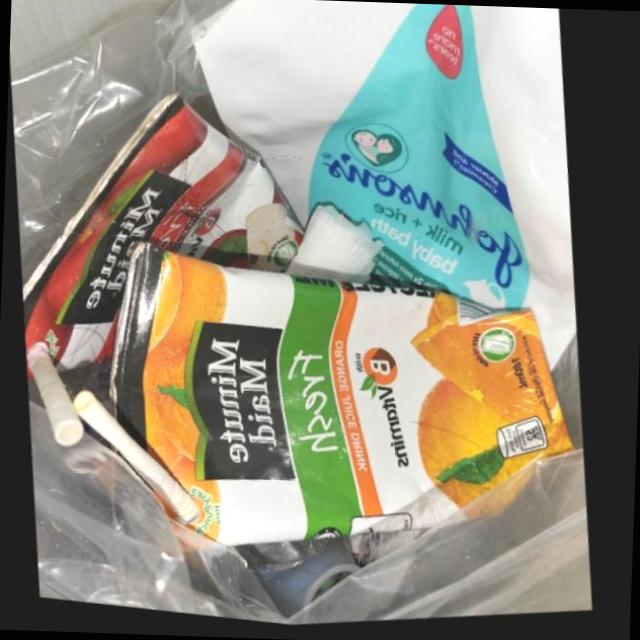giay: (290, 206, 388, 288)
goi_nhua_nho: (197, 0, 582, 371)
ong_hut_nhua: (79, 399, 212, 531), (31, 348, 93, 457)
vo_hop_sua: (117, 253, 579, 553), (28, 102, 304, 391)
